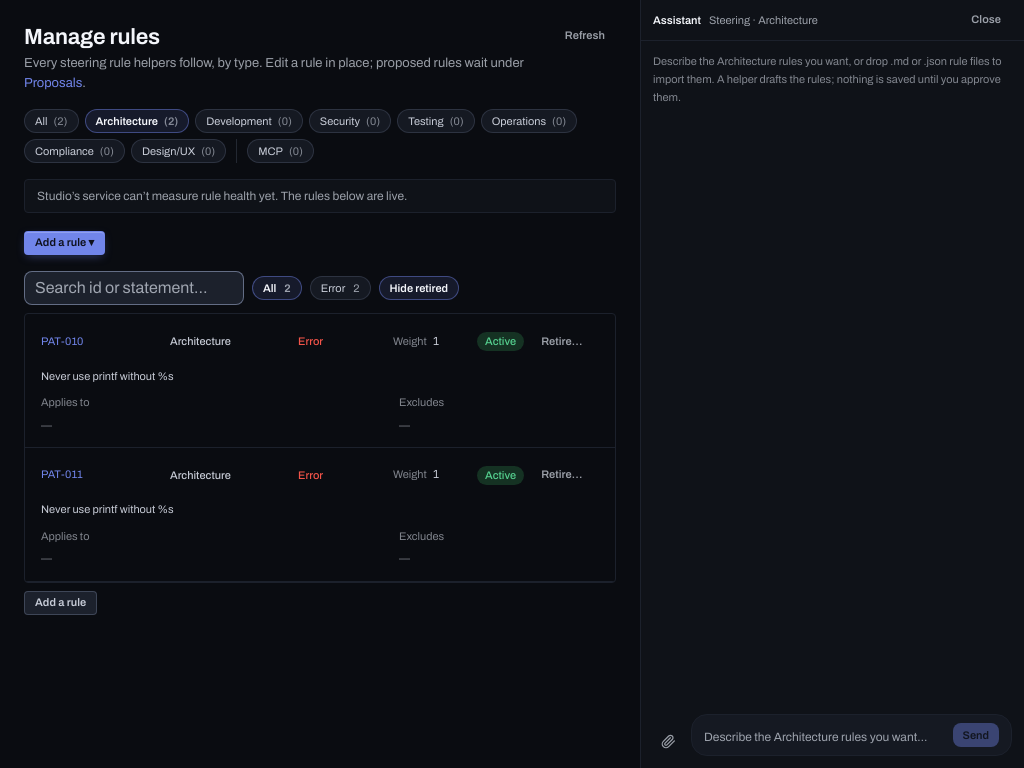
Scenario: SteeringPage — the grid + the drawer › ui and chat provenance are first-class — named, never a dash
Click the button with test id "steering-grid-id" showing "PAT-010". click: coordinates (92, 341)
box: [35,329,149,353]
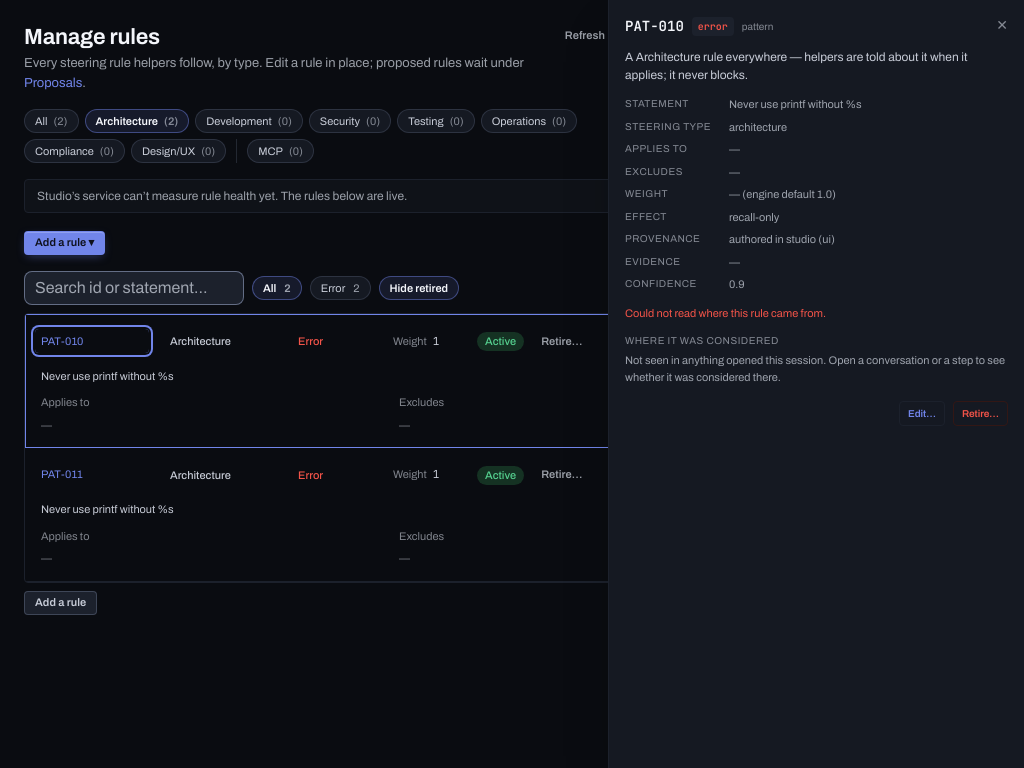
Result: the text with test id "steering-provenance-ui" reads "authored in studio (ui)" at [729,233,835,245]
Note: Selecting the second row swaps the drawer to it.
Click the button with test id "steering-grid-id" showing "PAT-011". click: coordinates (92, 475)
box: [35,462,149,487]
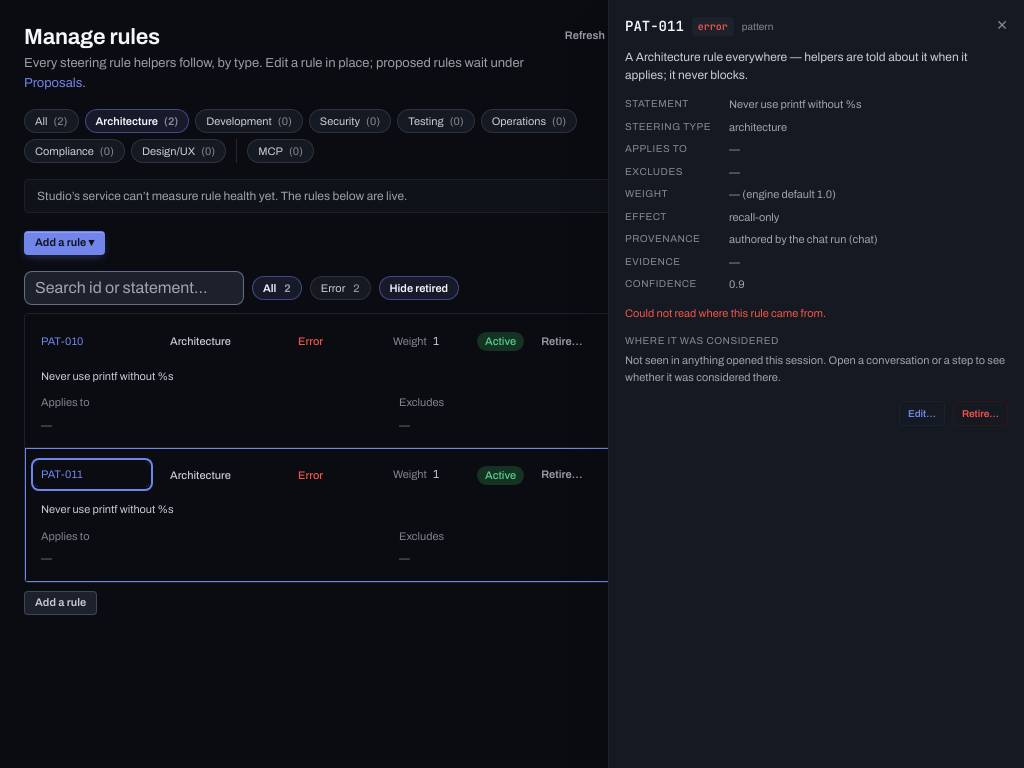
Result: the text with test id "steering-provenance-chat" reads "authored by the chat run (chat)" at [729,233,878,245]
